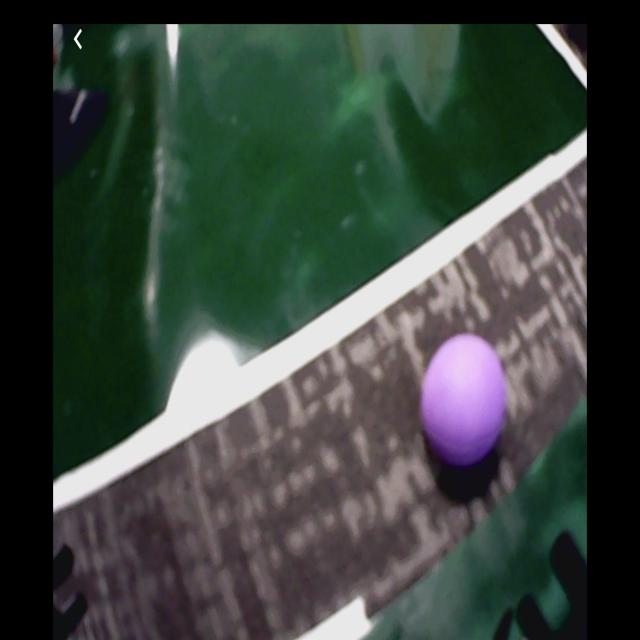ball: (421, 333, 506, 463)
